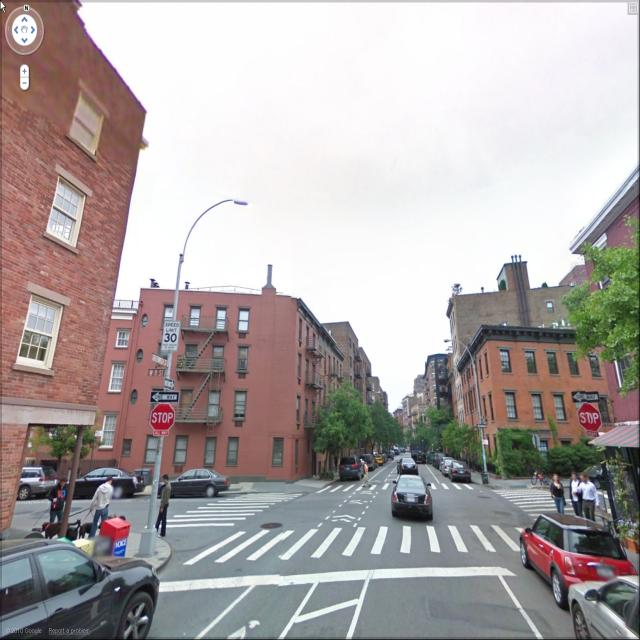b_1: (120, 266, 334, 484), (454, 275, 601, 431), (417, 340, 460, 426), (388, 364, 425, 440)
b_2: (0, 1, 147, 504)
